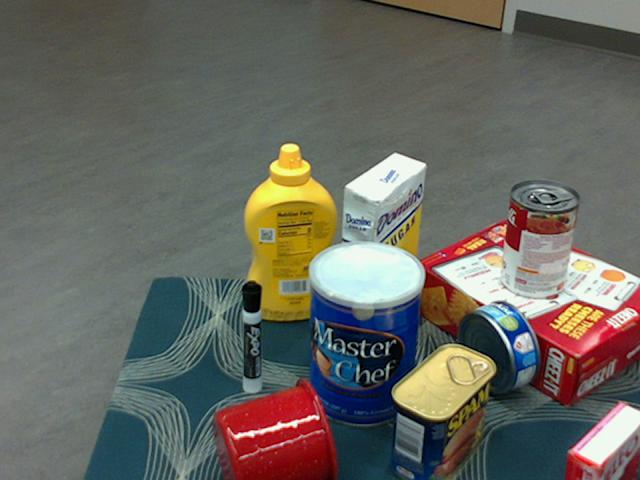cracker_box: (409, 219, 639, 402)
gelatin_box: (561, 401, 639, 479)
large_marker: (240, 279, 260, 394)
master_chef_can: (308, 241, 426, 429)
mug: (212, 378, 338, 479)
mustard_bottle: (243, 144, 336, 321)
potted_meat_can: (390, 344, 496, 479)
sugar_box: (336, 154, 427, 343)
tomato_soup_can: (500, 181, 579, 300)
tuna_fish_can: (458, 299, 541, 393)
